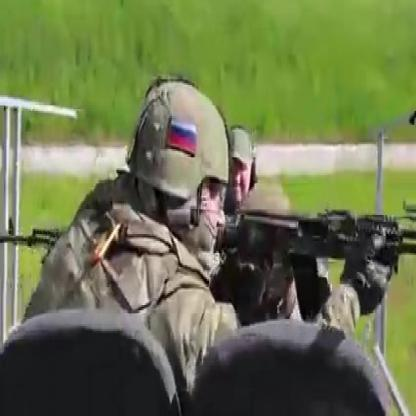Gun: (205, 187, 412, 338)
